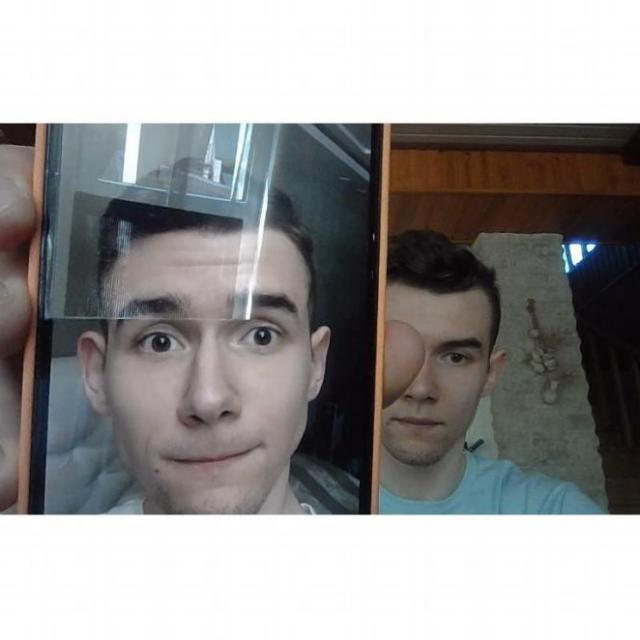device: (14, 123, 394, 513)
live: (388, 288, 489, 461)
